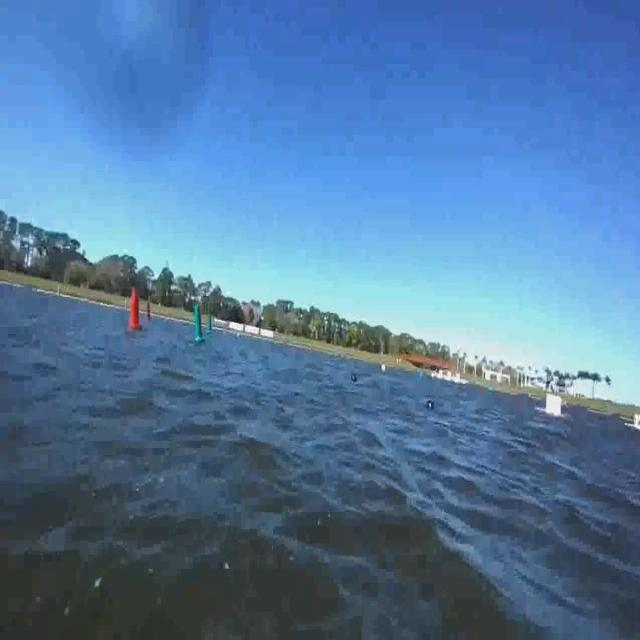black-buoy: (428, 402, 434, 412), (352, 374, 356, 380)
green-column-buoy: (191, 304, 204, 346), (207, 308, 213, 334)
red-column-buoy: (130, 287, 142, 329), (146, 303, 153, 321)
